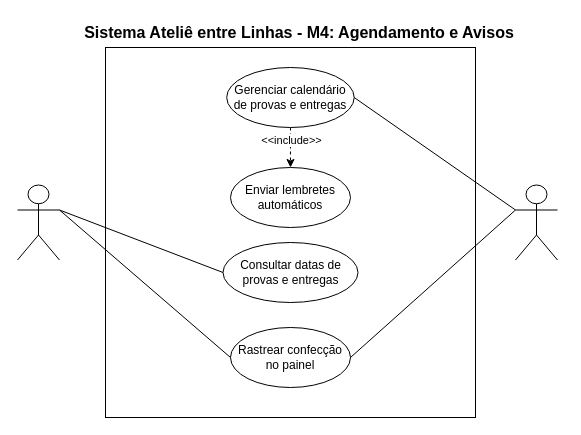
Image size: 581x435. Some labels were removed from this diagram. The centre of each missing label's shape, as x and y in pixels:
"Cliente" goes at (x=38, y=222).
"Costureira" goes at (x=536, y=222).
